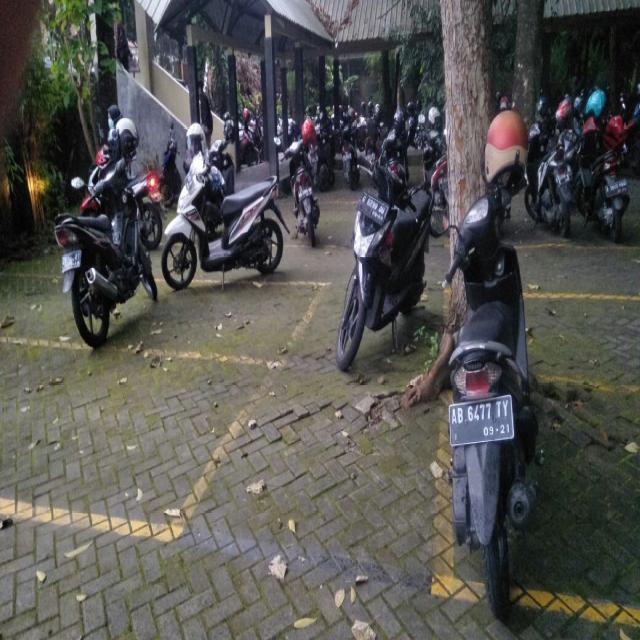plate: (448, 394, 513, 445), (357, 192, 388, 224), (60, 247, 81, 270)
